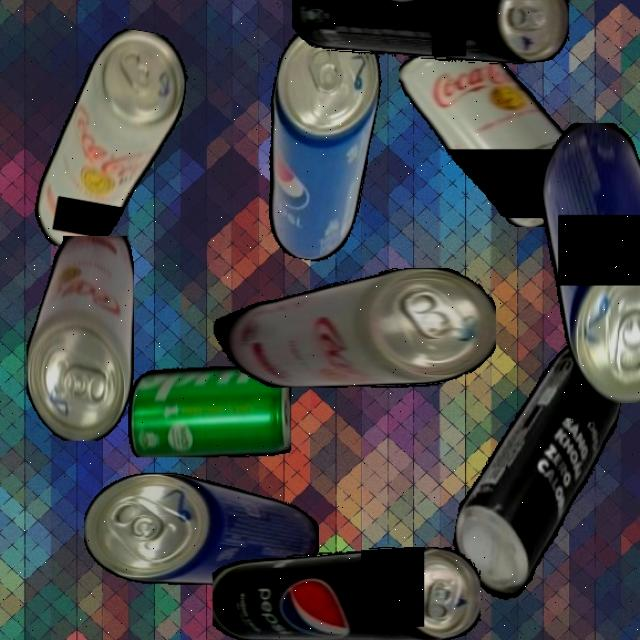debris: (444, 330, 629, 620), (30, 19, 194, 263), (399, 37, 608, 227), (246, 14, 390, 267), (205, 268, 496, 388), (541, 122, 640, 403), (84, 472, 319, 584), (212, 547, 480, 640), (25, 234, 134, 440), (291, 0, 569, 64), (128, 364, 292, 458)
